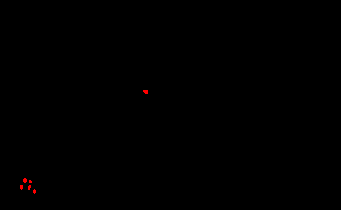Target: (143, 90, 148, 94), (23, 178, 27, 183), (20, 185, 23, 190), (28, 185, 31, 190), (33, 189, 36, 194), (29, 180, 32, 183)
